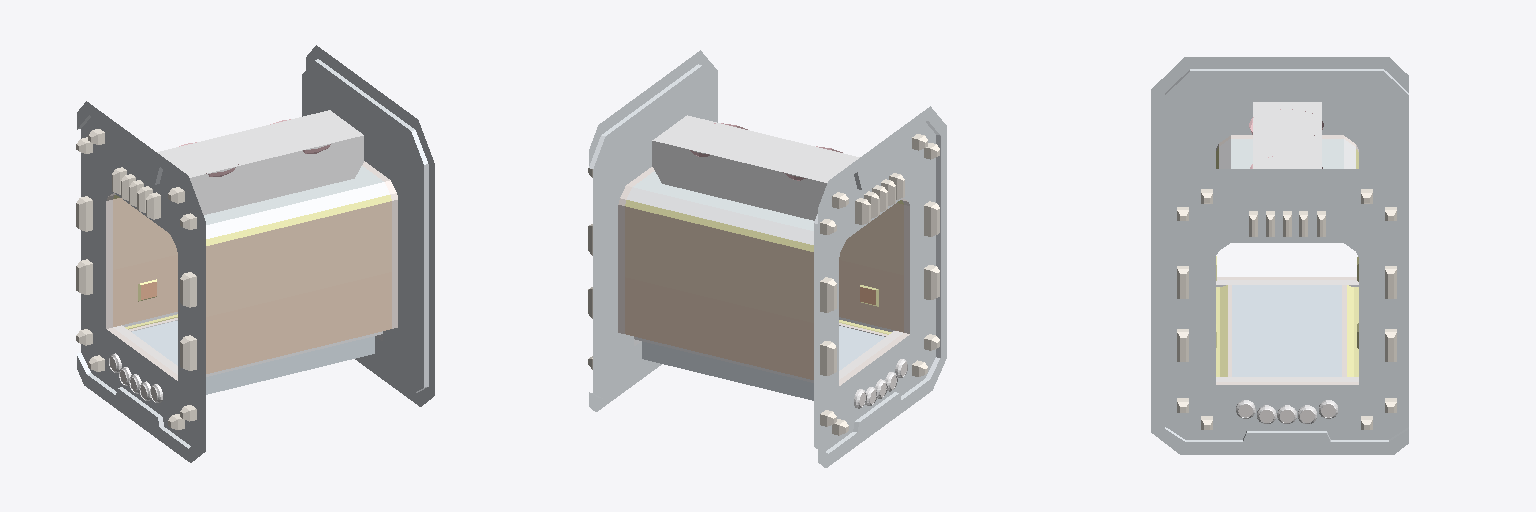
The model's file is supply_hallway_model.obj.
The picture shows the model from 3 angles: view 1: azimuth 30°, elevation 25°; view 2: azimuth 150°, elevation 25°; view 3: azimuth 270°, elevation 25°; orthographic projection.
Visible parts, largest first — view 1: supply_hallway_model; view 2: supply_hallway_model; view 3: supply_hallway_model.
Part boxes in pixels (bbox=[...]): supply_hallway_model: bbox=[76, 45, 434, 462]; supply_hallway_model: bbox=[588, 50, 946, 467]; supply_hallway_model: bbox=[1151, 57, 1408, 454].
Bounding box in the file's own units: 377 × 420 × 343.